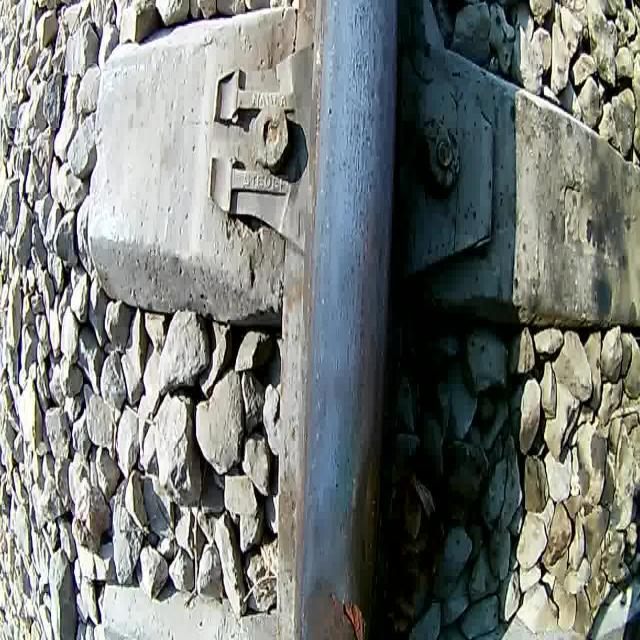Spallings: (338, 591, 368, 640)
Squats: (299, 571, 367, 640)
